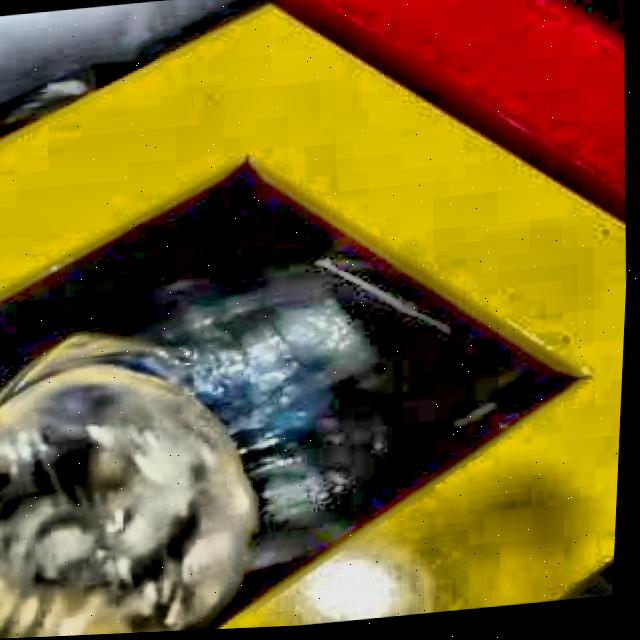plastic: (0, 371, 259, 639)
